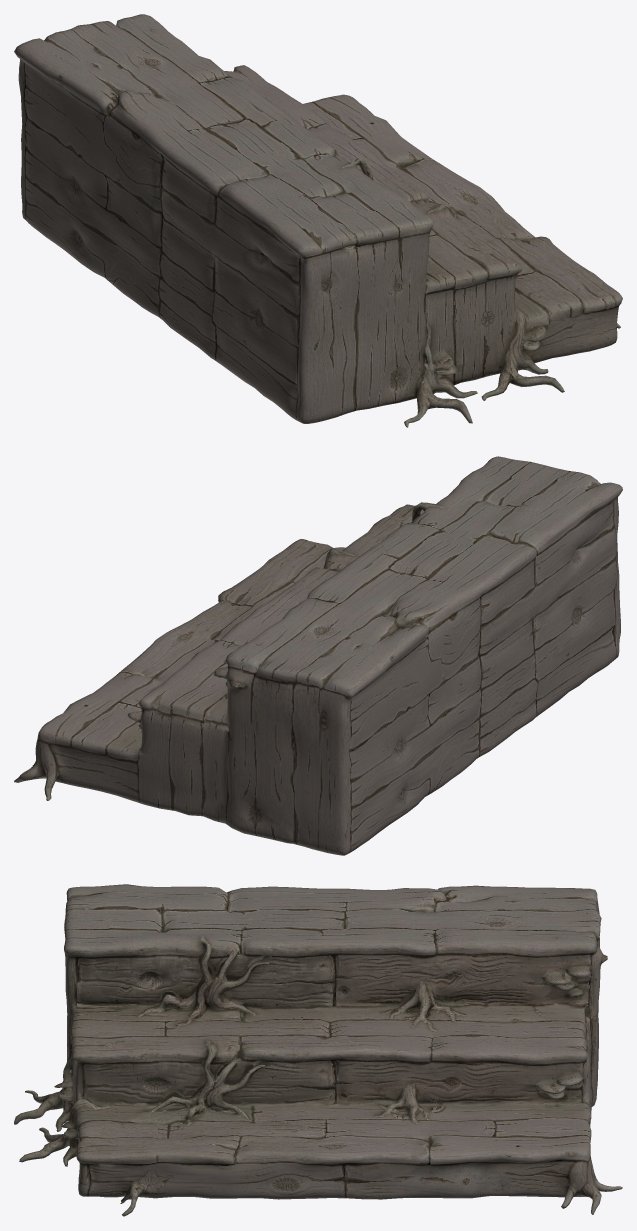
File: stage-mobile.glb
3 renders of one model, top to bottom at view 1: azimuth 30°, elevation 25°; view 2: azimuth 150°, elevation 25°; view 3: azimuth 270°, elevation 25°, orthographic. The views are drawn at different scales.
Parts seen in each view (by area): view 1: tripo_node_3c538181-7885-44f2-b77a-3dfce9674fe2; view 2: tripo_node_3c538181-7885-44f2-b77a-3dfce9674fe2; view 3: tripo_node_3c538181-7885-44f2-b77a-3dfce9674fe2.
Part boxes in pixels (x1,y1,x2,y2): tripo_node_3c538181-7885-44f2-b77a-3dfce9674fe2: (14,14,622,427); tripo_node_3c538181-7885-44f2-b77a-3dfce9674fe2: (14,456,622,855); tripo_node_3c538181-7885-44f2-b77a-3dfce9674fe2: (14,884,622,1216).
Size of the model in its own units: 0.6188 by 0.3245 by 0.9937.
1 material, 1 textured.
